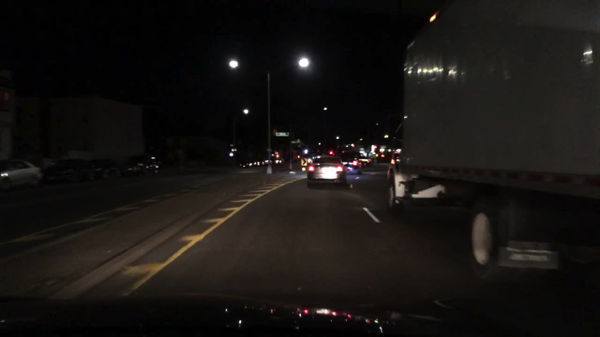car: (1, 156, 44, 191), (306, 155, 350, 189), (44, 158, 96, 184), (118, 153, 159, 178), (86, 158, 122, 182), (338, 151, 363, 176), (339, 150, 371, 165), (238, 160, 252, 169), (260, 158, 272, 166), (251, 160, 261, 167), (272, 158, 282, 164)
traffic light: (228, 152, 234, 157), (328, 150, 333, 155), (296, 155, 301, 159), (275, 154, 279, 159), (311, 155, 316, 159), (373, 145, 378, 149), (380, 154, 384, 158)
traffic sign: (275, 132, 289, 137), (300, 158, 307, 166), (230, 148, 238, 152), (374, 153, 378, 158), (290, 141, 296, 144), (229, 144, 234, 147), (274, 152, 279, 154)
truck: (381, 2, 598, 287)
